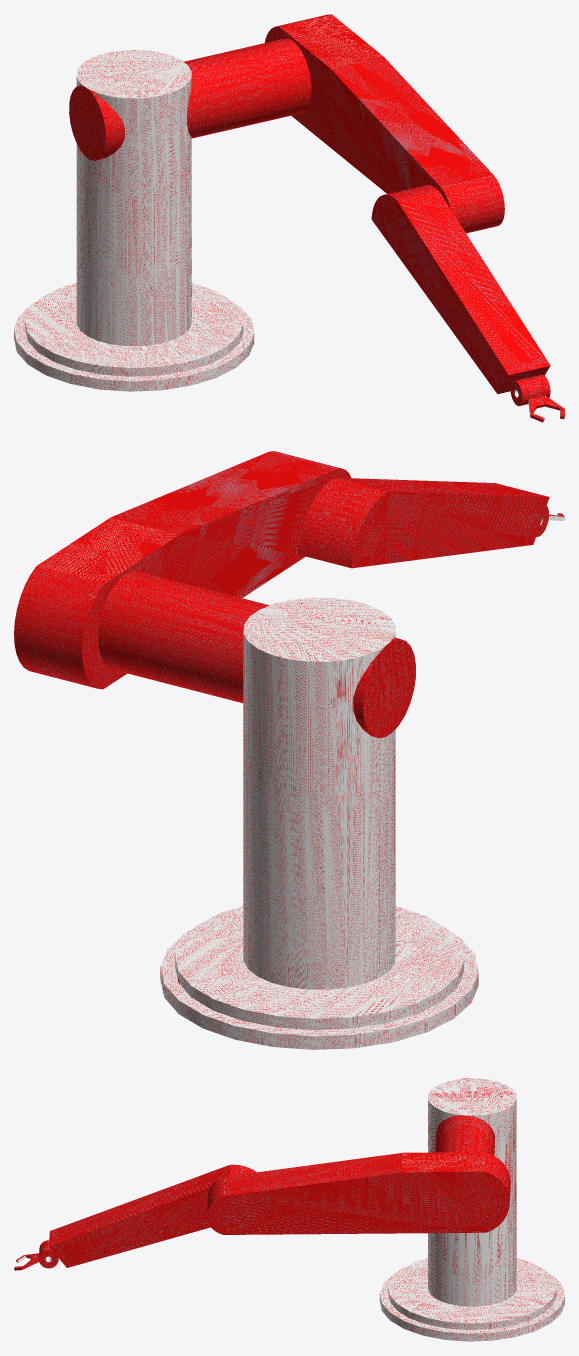
Rendered from machine1.dae.
3 views of the same model, one above another, from view 1: azimuth 30°, elevation 25°; view 2: azimuth 150°, elevation 25°; view 3: azimuth 270°, elevation 25° (orthographic). The views are drawn at different scales.
Visible parts, largest first — view 1: machine1 (×5); view 2: machine1 (×4); view 3: machine1 (×5).
Part boxes in pixels (x1,y1,x2,y2): machine1 (×5): [14, 14, 564, 422]; machine1 (×4): [14, 451, 549, 1049]; machine1 (×5): [14, 1078, 564, 1341].
Size of the model in its own units: 292 by 581 by 242.
